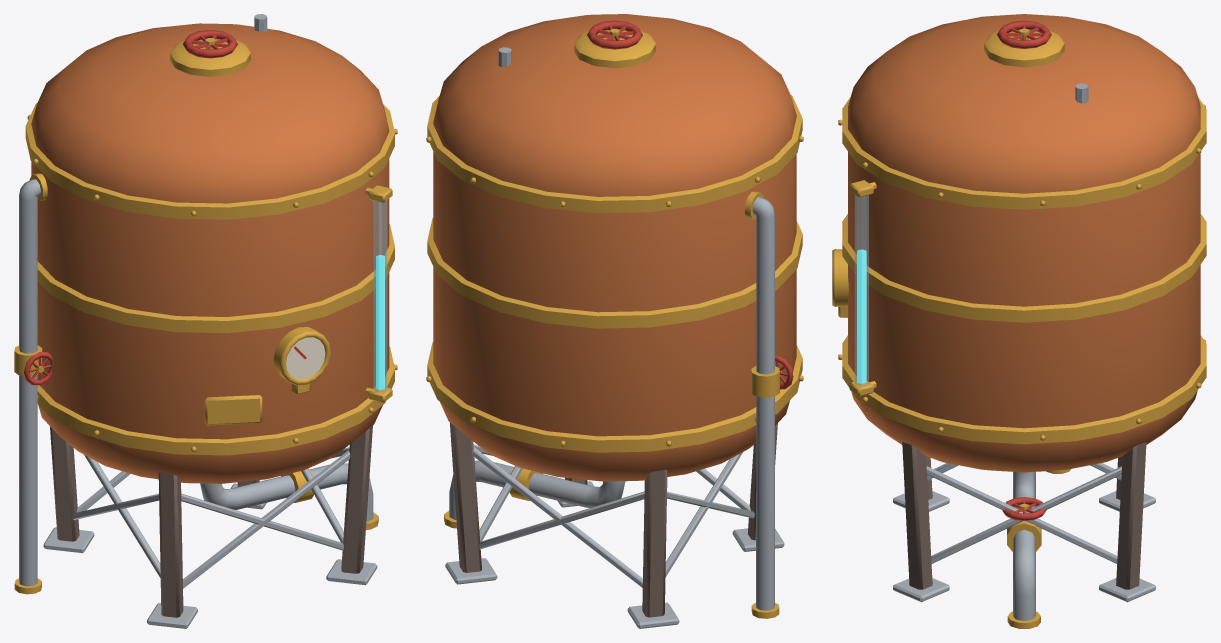
Rendered from prop_tank.glb.
3 views of the same model, side by side, from view 1: azimuth 30°, elevation 25°; view 2: azimuth 150°, elevation 25°; view 3: azimuth 270°, elevation 25° (orthographic). The views are drawn at different scales.
Parts seen in each view (by area): view 1: Tank; view 2: Tank; view 3: Tank.
Part boxes in pixels (x1,y1,x2,y2): Tank: (14, 14, 397, 628); Tank: (426, 14, 803, 628); Tank: (832, 14, 1206, 628).
Size of what is drawn, in the model's own units: 4.16 by 5.97 by 3.9.
